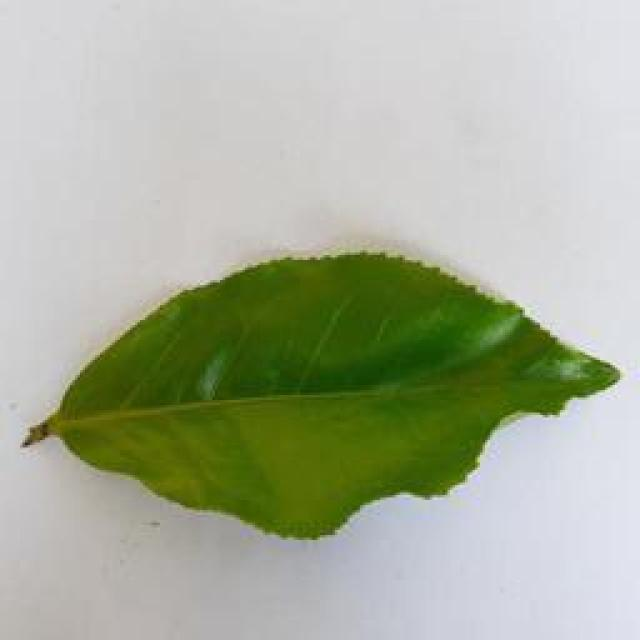Healthy: (37, 253, 627, 538)
